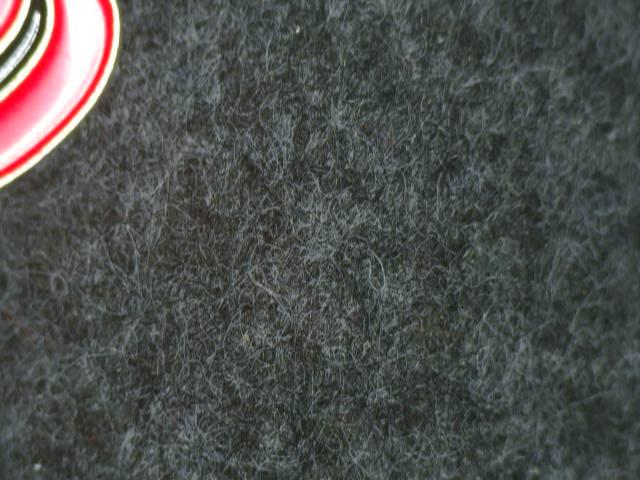Red-Hat: (0, 0, 156, 228)
